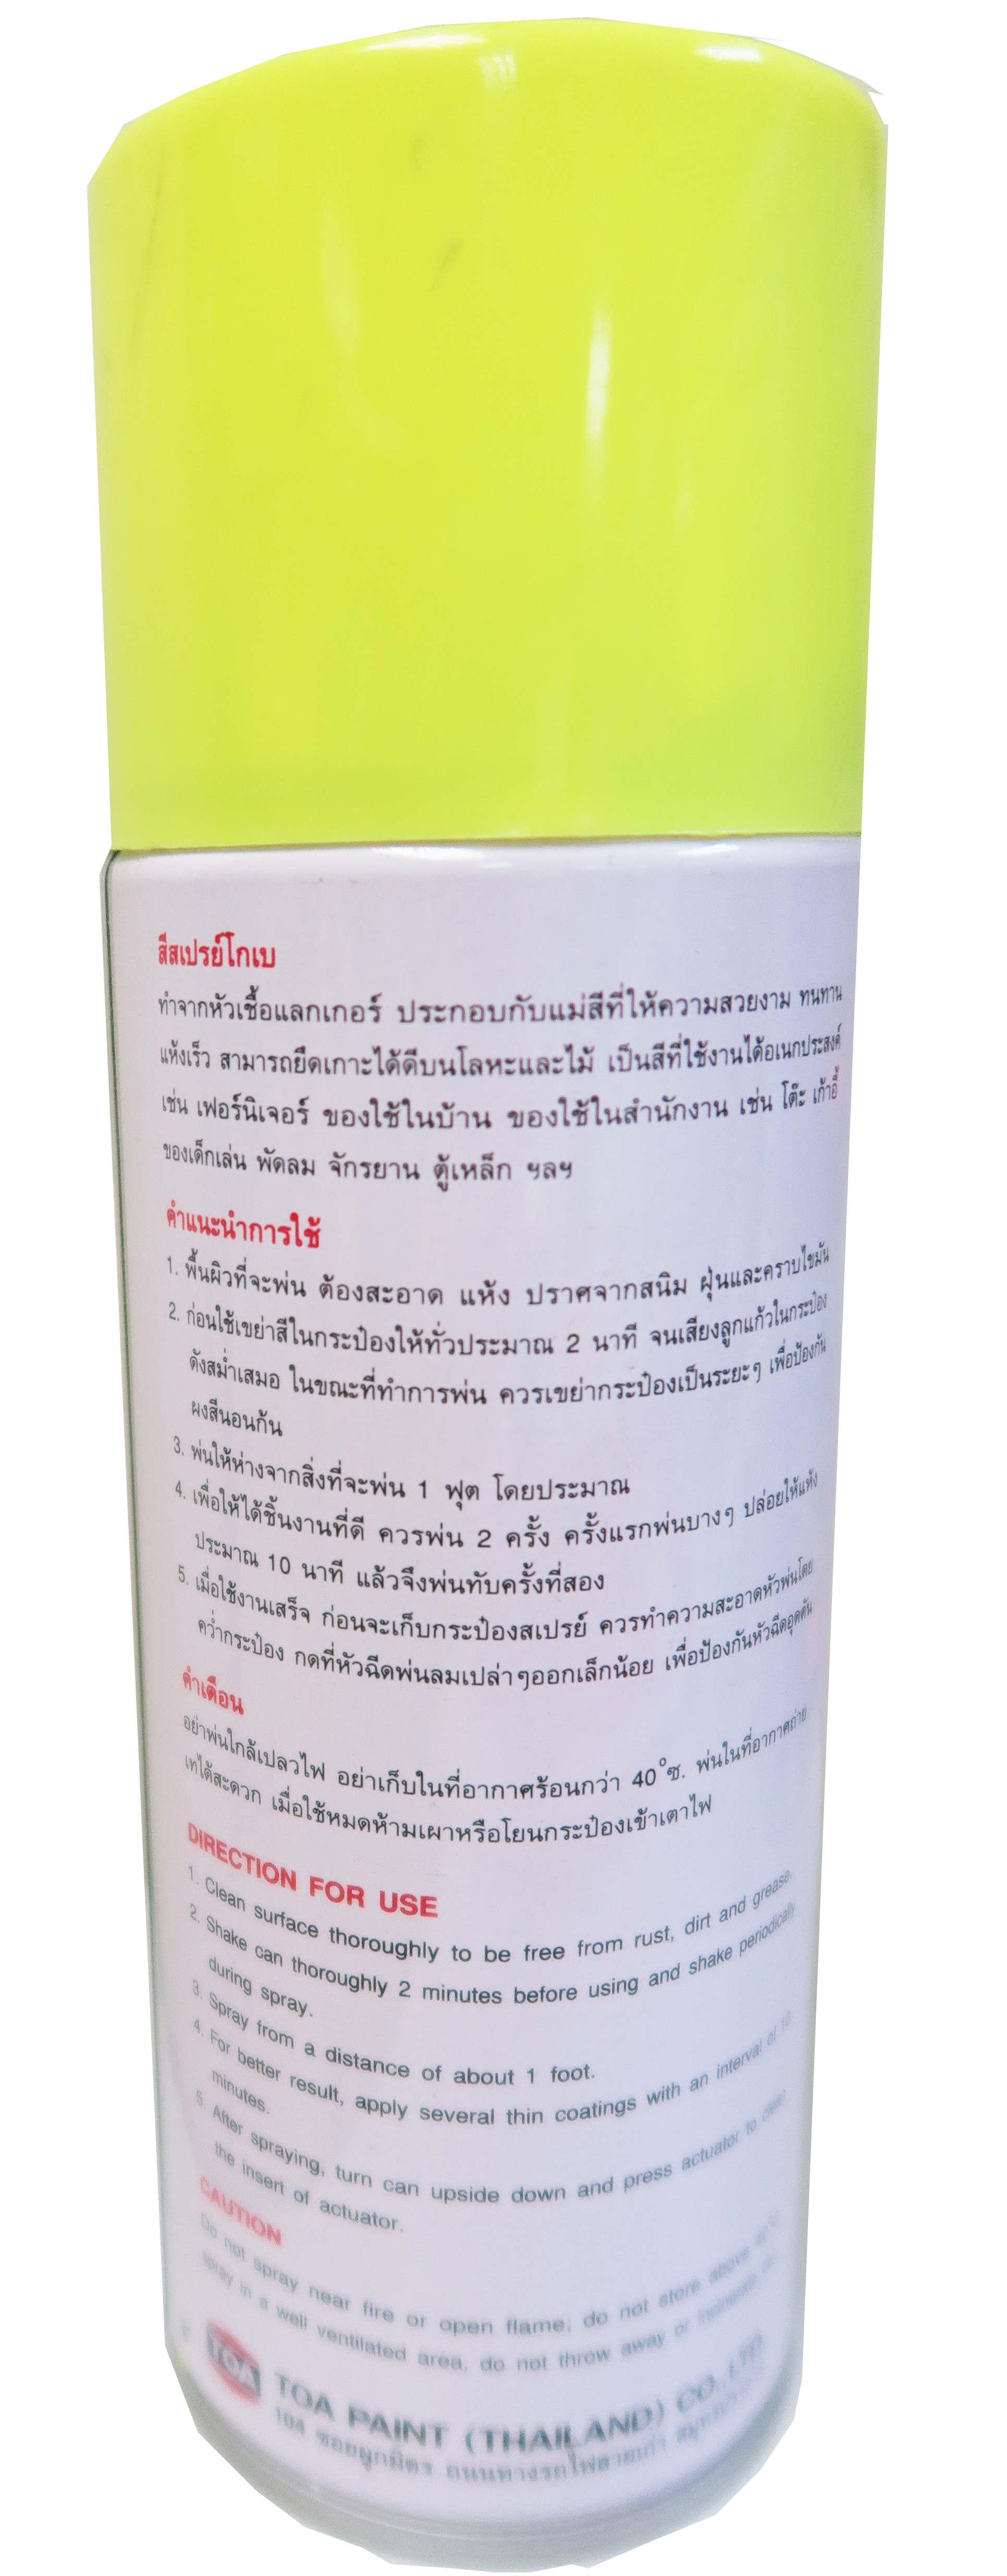Aerosol_cans: (74, 13, 902, 2571)
